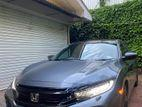car: (5, 38, 138, 107)
